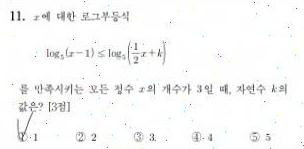choice: (14, 123, 30, 144)
not-choice: (132, 130, 145, 143), (248, 131, 261, 144), (74, 130, 86, 143), (190, 130, 202, 143)
